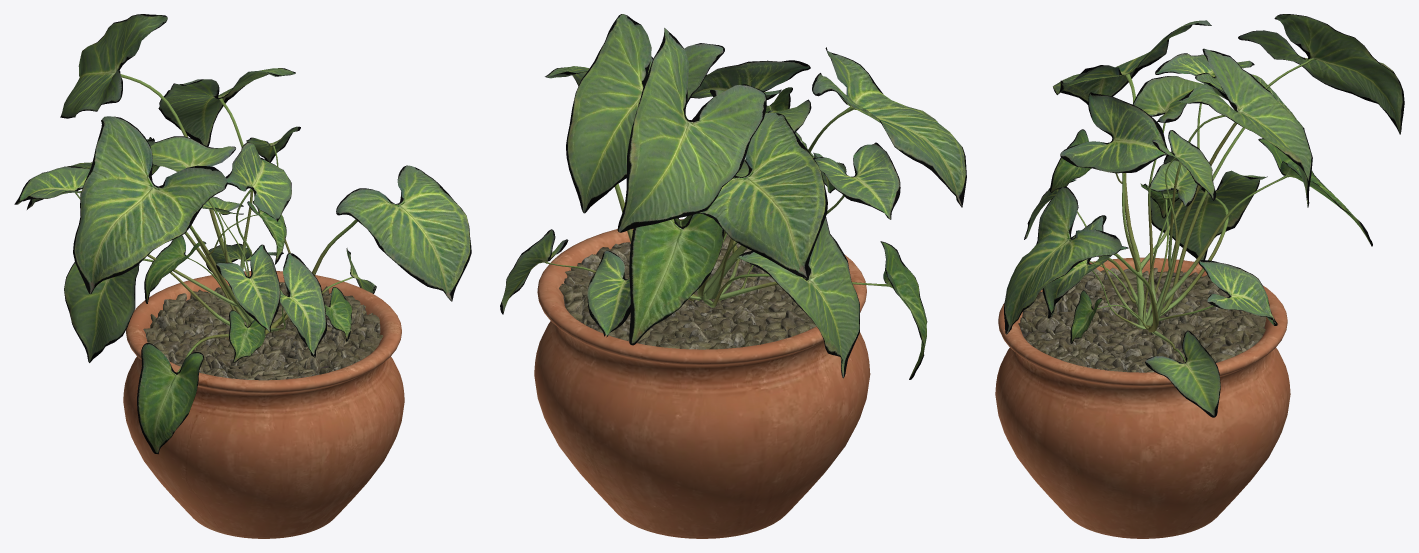
Rendered from potted_plant_02.glb.
3 views of the same model, side by side, from view 1: azimuth 30°, elevation 25°; view 2: azimuth 150°, elevation 25°; view 3: azimuth 270°, elevation 25° (orthographic). The views are drawn at different scales.
Visible parts, largest first — view 1: potted_plant_02_leaves, potted_plant_02_pot; view 2: potted_plant_02_leaves, potted_plant_02_pot; view 3: potted_plant_02_pot, potted_plant_02_leaves.
Part boxes in pixels (x1=…): potted_plant_02_leaves: x1=14, y1=14, x2=471, y2=454; potted_plant_02_pot: x1=123, y1=271, x2=404, y2=538; potted_plant_02_leaves: x1=500, y1=14, x2=966, y2=379; potted_plant_02_pot: x1=534, y1=219, x2=870, y2=538; potted_plant_02_pot: x1=995, y1=257, x2=1290, y2=538; potted_plant_02_leaves: x1=1004, y1=14, x2=1404, y2=417.
Bounding box in the file's own units: 0.7012 × 0.8412 × 0.6574.
Materials: 2 (2 with a texture image).
